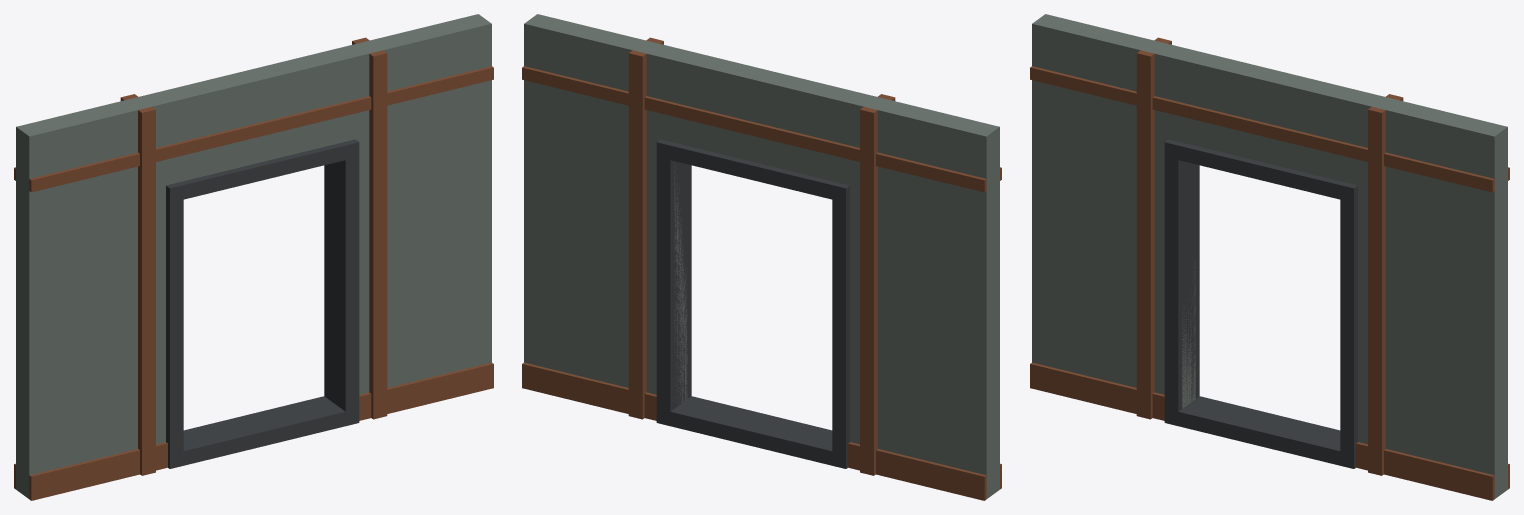
Rendered from SM_Wall_Door.fbx.
3 renders of one model, left to right at view 1: azimuth 30°, elevation 25°; view 2: azimuth 150°, elevation 25°; view 3: azimuth 330°, elevation 25°, orthographic.
Parts seen in each view (by area): view 1: SM_Wall_Door; view 2: SM_Wall_Door; view 3: SM_Wall_Door.
Boxes of the visible parts, box(x1,y1,x2,y2) form: SM_Wall_Door: box(14, 14, 493, 500); SM_Wall_Door: box(522, 14, 1001, 500); SM_Wall_Door: box(1030, 14, 1509, 500).
Size of what is drawn, in the model's own units: 4 by 3 by 0.32.
